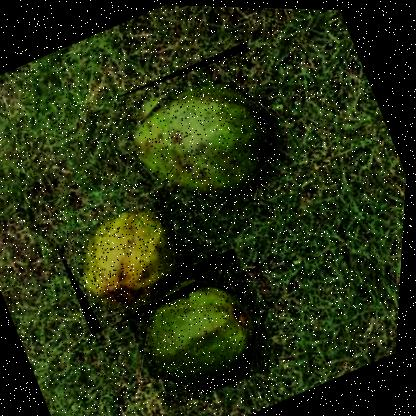guava: (106, 37, 305, 230), (116, 243, 290, 414), (53, 192, 206, 337)
